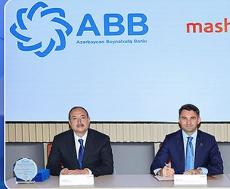ABB: (7, 1, 74, 58)
